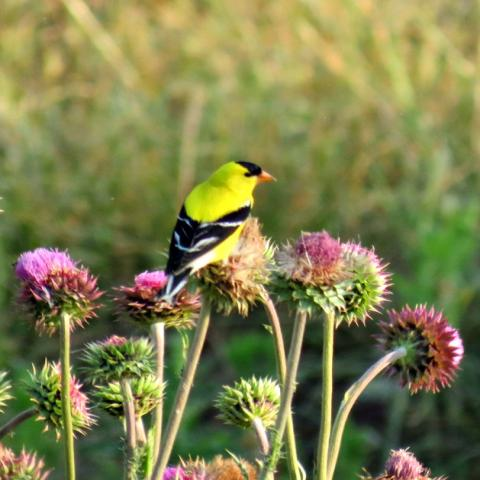bird: (154, 158, 278, 307)
